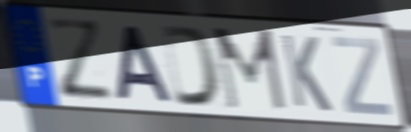A: (115, 22, 177, 105)
D: (159, 22, 223, 110)
K: (277, 31, 335, 115)
M: (210, 25, 290, 114)
Z: (42, 15, 118, 102), (328, 35, 394, 119)
